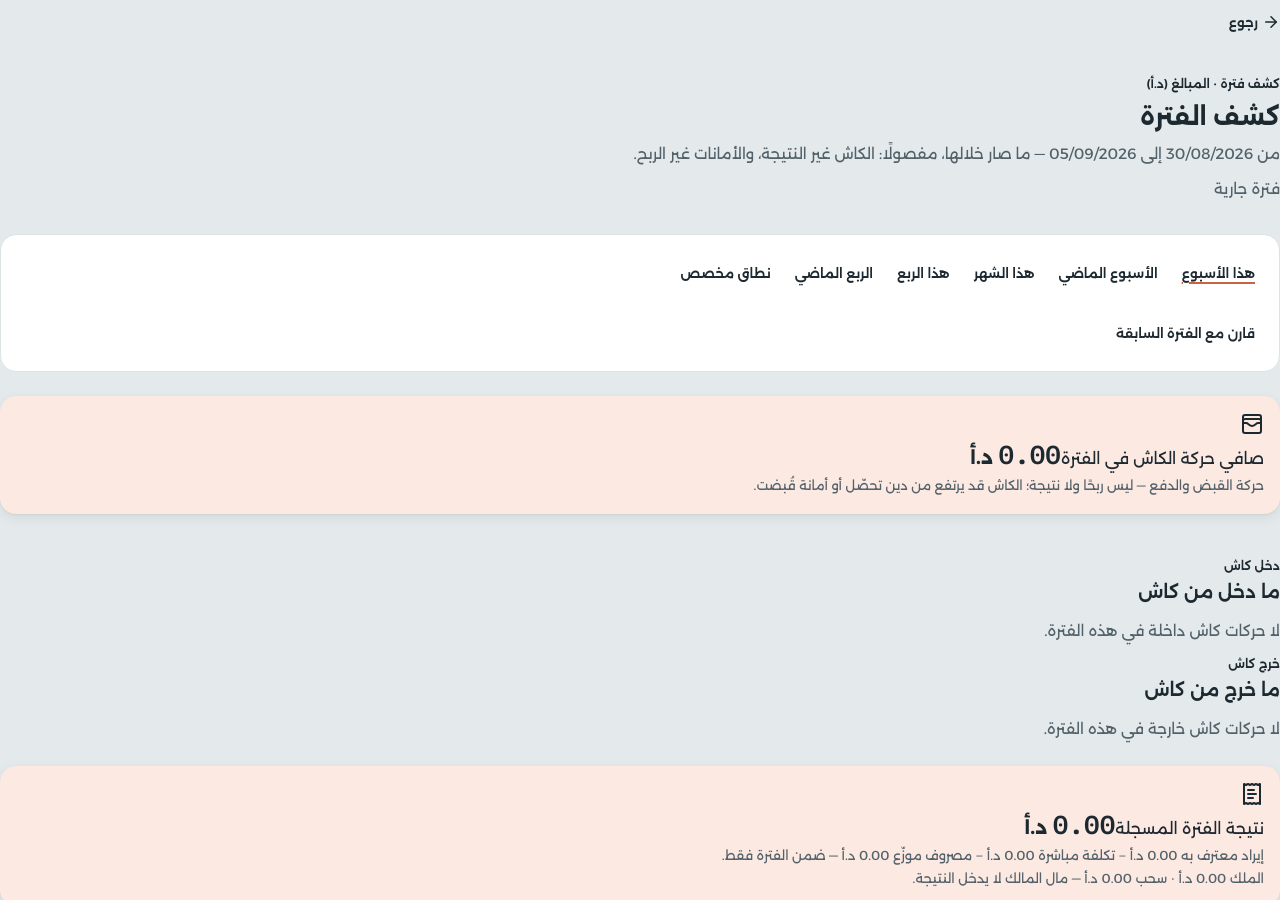
Test: Statement — قوالب الربع (FIN-007) › وسم «فترة جارية» في الترويسة حين يحتوي النطاق المعروض اليوم — ويغيب للفترة المنقضية
The image size is (1280, 900).
Expected: the heading "كشف الفترة" is shown, [1140, 102, 1279, 131]
Expected: the text "فترة جارية" is shown, [1214, 180, 1279, 198]
Click the button "الربع الماضي": (834, 274) [787, 252, 881, 296]
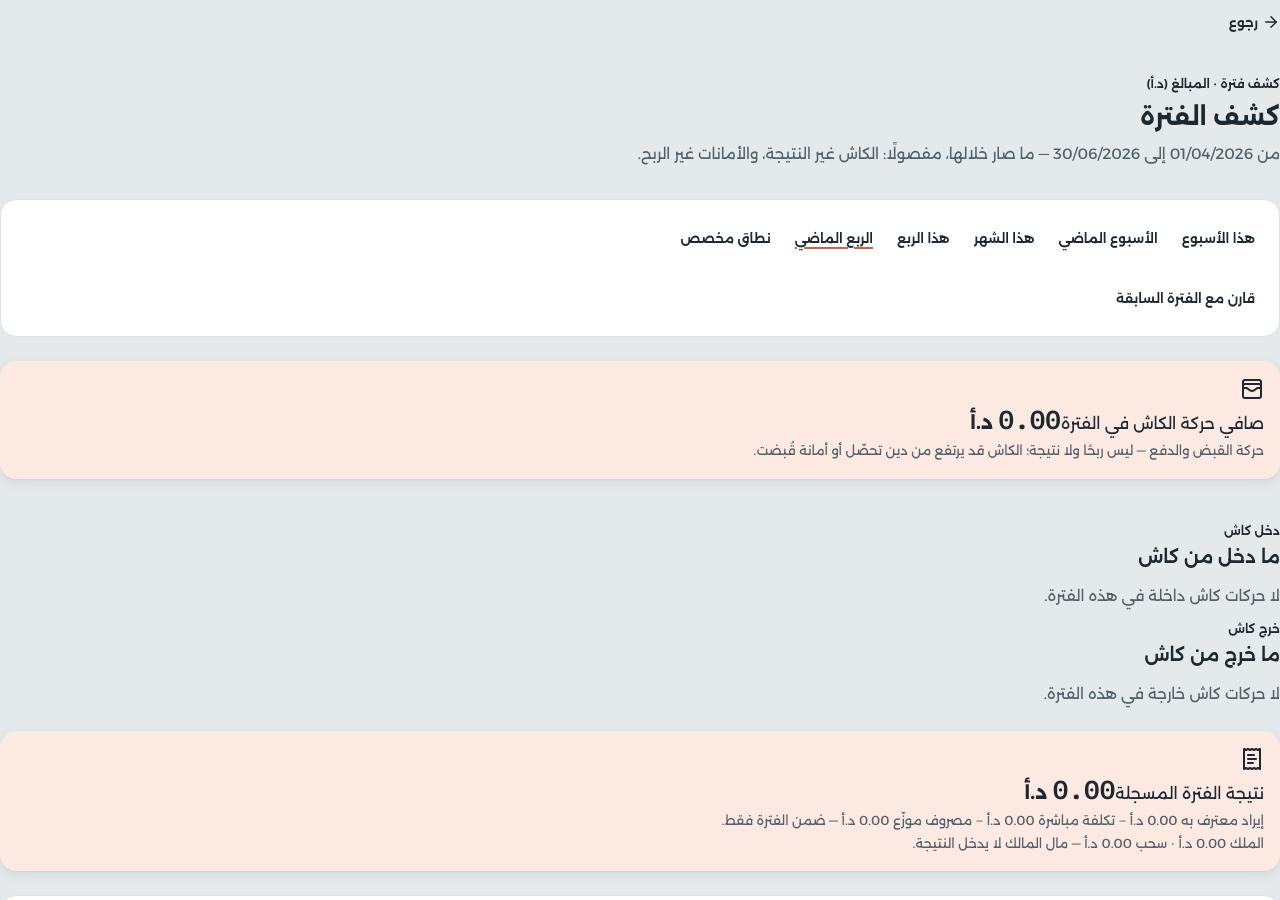
Expected: the text "فترة جارية" is gone
